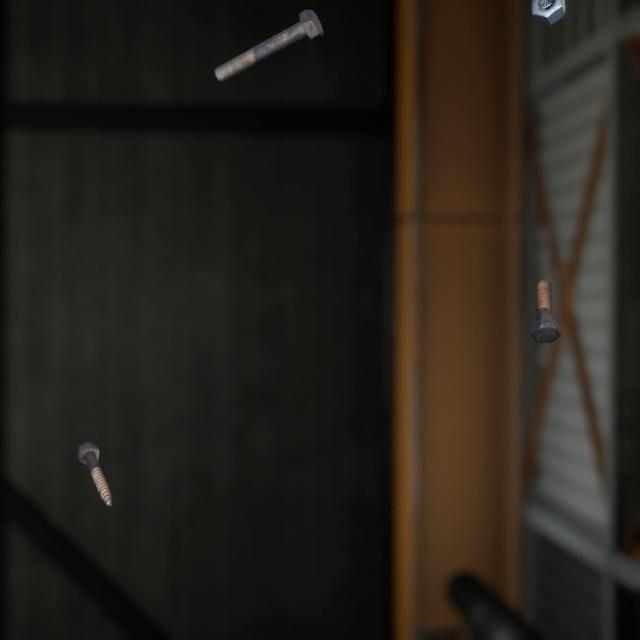bolt: (209, 0, 327, 76), (72, 417, 117, 489), (526, 258, 565, 330)
nut: (526, 0, 570, 22)
